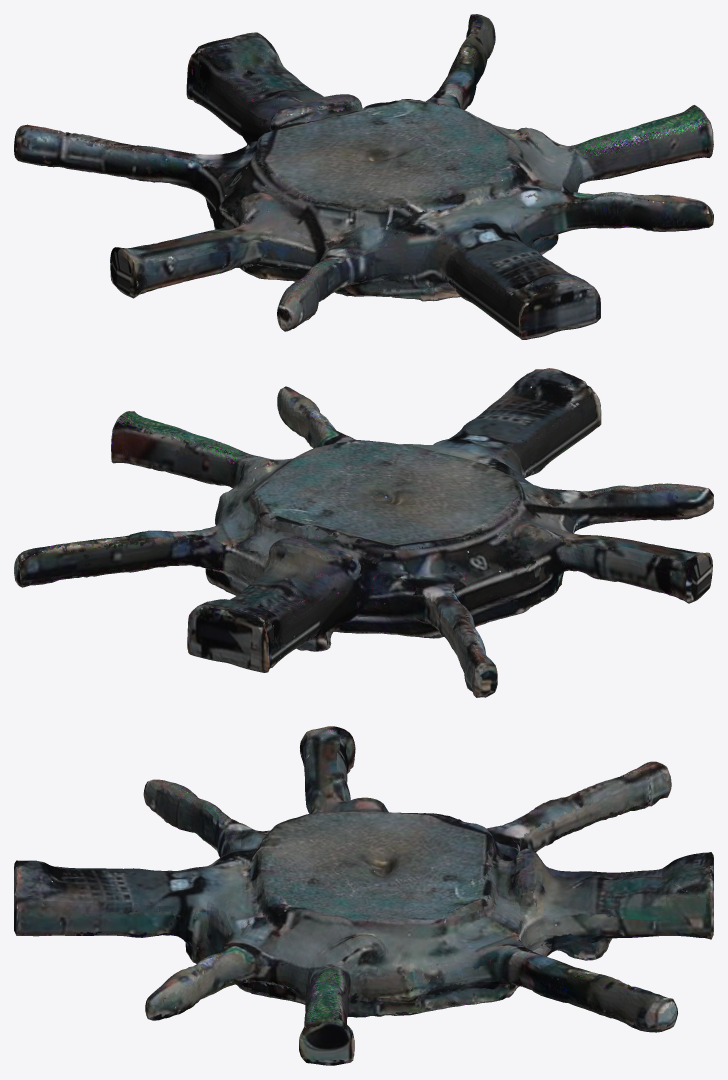
File: the_wide_foundation_for_the_turret_1.fbx
3 views of the same model, one above another, from view 1: azimuth 30°, elevation 25°; view 2: azimuth 150°, elevation 25°; view 3: azimuth 270°, elevation 25° (orthographic). The views are drawn at different scales.
Parts seen in each view (by area): view 1: mesh; view 2: mesh; view 3: mesh.
Boxes of the visible parts, x1,y1,x2,y2 form: mesh: (14, 14, 713, 339); mesh: (14, 368, 713, 697); mesh: (14, 726, 713, 1065).
Bounding box in the file's own units: 1.04 × 0.1261 × 1.04.
1 material, 1 textured.
